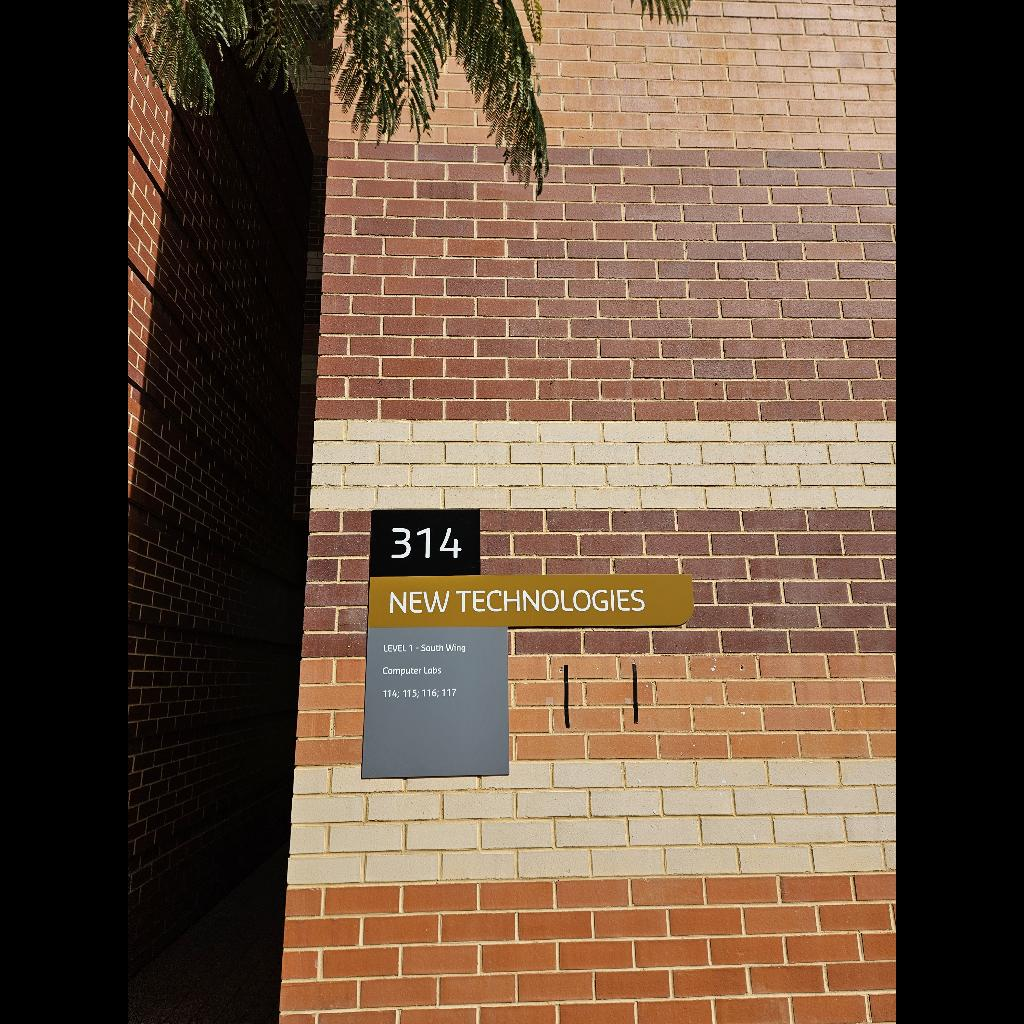BuildingCodes: (391, 526, 463, 560)
